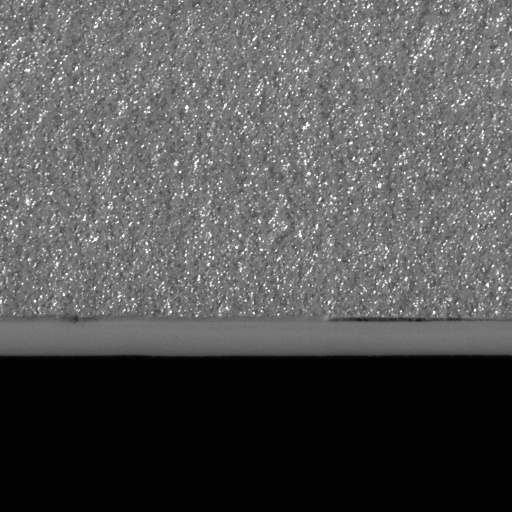jiaofeng: (318, 313, 473, 338)
